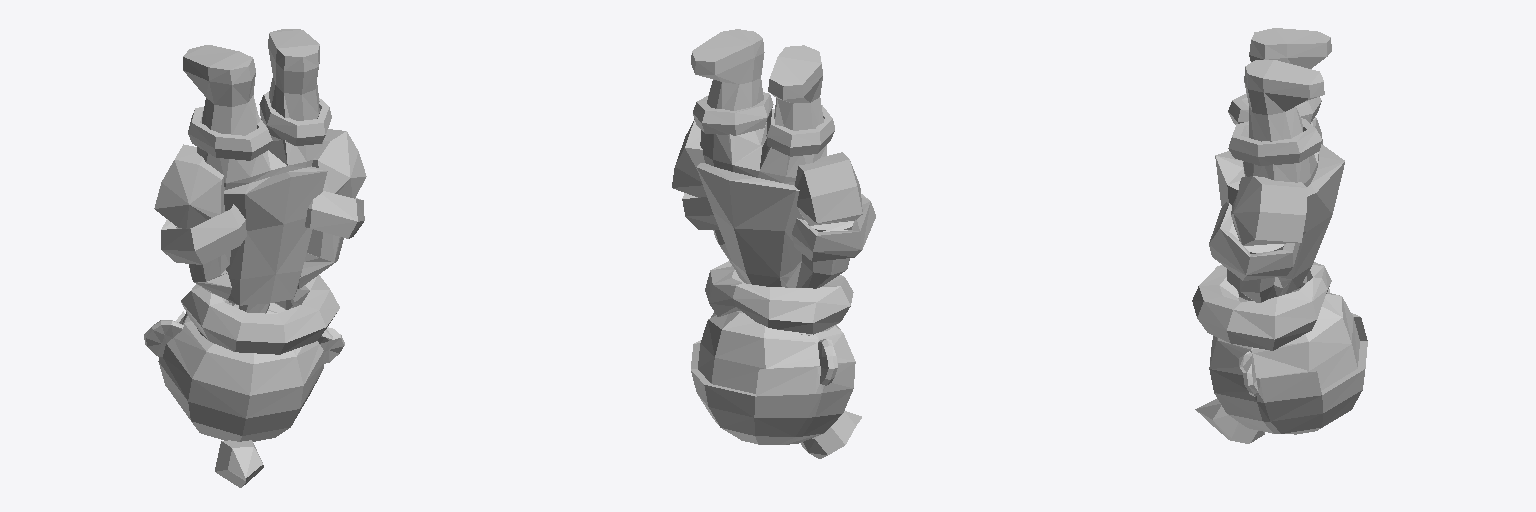
File: eikastanding_000046.obj
3 renders of one model, left to right at view 1: azimuth 30°, elevation 25°; view 2: azimuth 150°, elevation 25°; view 3: azimuth 270°, elevation 25°, orthographic.
Parts seen in each view (by area): view 1: Cylinder; view 2: Cylinder; view 3: Cylinder.
Part boxes in pixels (x1,y1,x2,y2): Cylinder: (144,29,366,487); Cylinder: (672,29,875,458); Cylinder: (1192,28,1367,443).
Bounding box in the file's own units: 27.91 × 55.86 × 21.6.